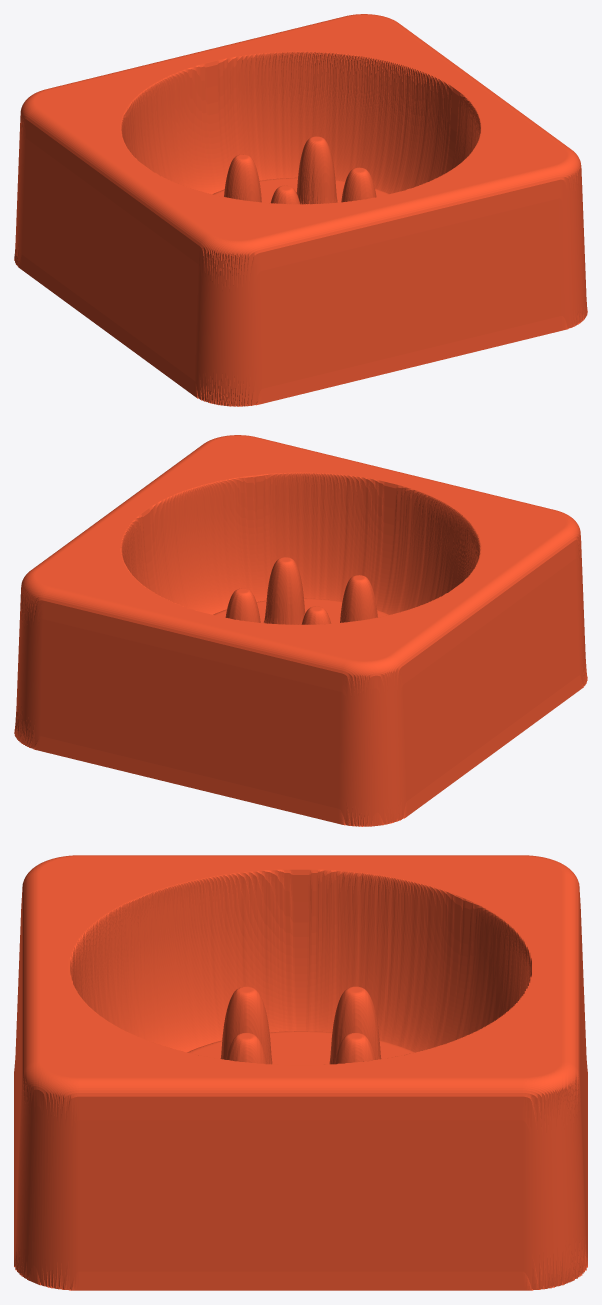
Rendered from mold.glb.
3 views of the same model, one above another, from view 1: azimuth 30°, elevation 25°; view 2: azimuth 150°, elevation 25°; view 3: azimuth 270°, elevation 25° (orthographic). The views are drawn at different scales.
Visible parts, largest first — view 1: geometry_0; view 2: geometry_0; view 3: geometry_0.
Part boxes in pixels (x1,y1,x2,y2): geometry_0: (14,14,587,406); geometry_0: (14,435,587,826); geometry_0: (14,855,587,1290).
Bounding box in the file's own units: 0.0798 × 0.031 × 0.0798.
